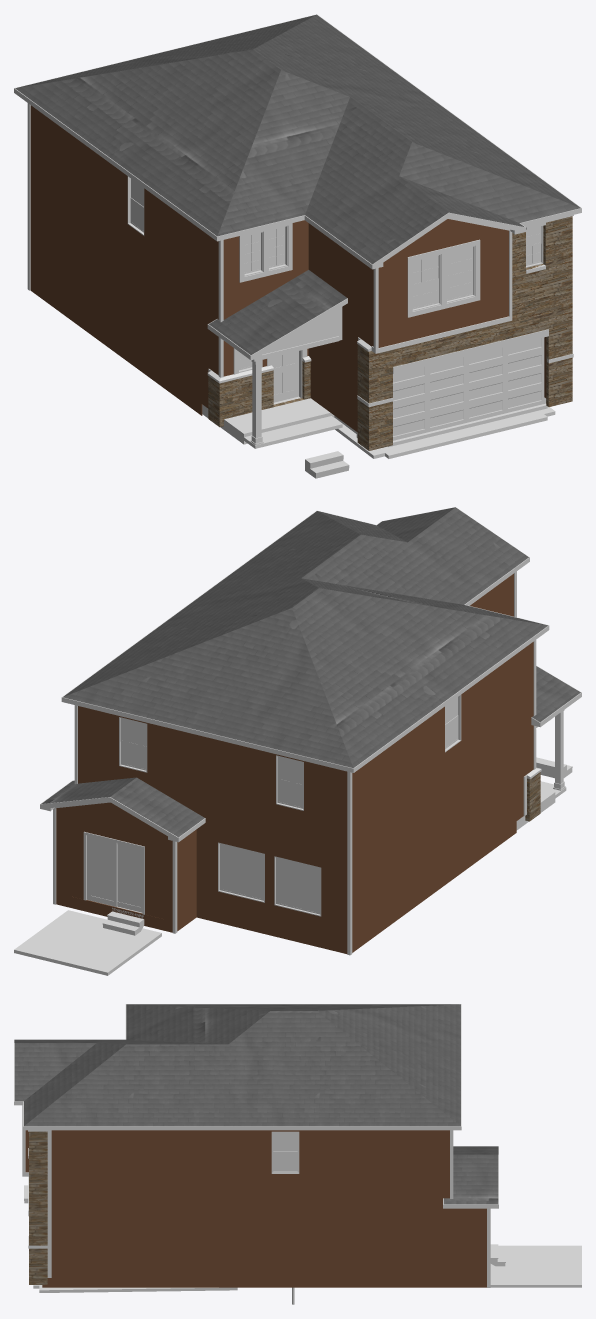
Rendered from 229-1994-dm-traditional-b.glb.
The picture shows the model from 3 angles, top to bottom: view 1: azimuth 30°, elevation 25°; view 2: azimuth 150°, elevation 25°; view 3: azimuth 270°, elevation 25°; orthographic projection. The views are drawn at different scales.
Parts seen in each view (by area): view 1: Basic Roof Wood Rafter 4" - Asphalt Shingle - Insulated_e511, Basic Wall BSB Exterior - Stud_5.5" - Sheathing_0.5" - _cba5, Basic Wall BSB Exterior - Brick_5.5" [4449222], Traditional - BSB Exterior - Overhead Garage Door - Clo_6579, Basic Wall BSB Exterior - Stud_3.5" - Sheathing_0.5" - _7f34, Basic Wall BSB Exterior - Stud_3.5" - Sheathing_0.5" - _88e3, Basic Wall BSB Exterior - Stud_3.5" - Sheathing_0.5" - _df46, Basic Roof Wood Rafter 4" - Asphalt Shingle - Insulated_83e9, Basic Wall BSB Exterior - Stud_3.5" - Sheathing_0.5" - _b0ea, Fascia Fascia-Flat 1x6 w/12" Soffit Bd [4252635], Basic Wall BSB Exterior - Stud_3.5" - Sheathing_0.5" - _6038, Basic Wall BSB Exterior - Stud_5.5" - Sheathing_0.5" - _b74c (+29 smaller); view 2: Basic Roof Wood Rafter 4" - Asphalt Shingle - Insulated_e511, Basic Wall BSB Exterior - Stud_3.5" - Sheathing_0.5" - _2e51, Basic Wall BSB Exterior - Stud_5.5" - Sheathing_0.5" - _cba5, Basic Wall BSB Exterior - Stud_3.5" - Sheathing_0.5" - _ca60, Basic Wall BSB Exterior - Stud_3.5" - Sheathing_0.5" - _7f34, Basic Wall BSB Exterior - Stud_3.5" - Sheathing_0.5" - _a688, Floor BSB Concrete Slab - 4" - Slope Option [4621636], Basic Wall BSB Exterior - Stud_3.5" - Sheathing_0.5" - _df46, BSB Exterior - SGD XO - 1-Lite 6068 [4608851], Basic Roof Wood Rafter 4" - Asphalt Shingle - Insulated_5cc2, Fascia Fascia-Flat 1x6 w/12" Soffit Bd [4252635], BSB Fixed 5050 FX w/ Sill [4088322] (+15 smaller); view 3: Basic Roof Wood Rafter 4" - Asphalt Shingle - Insulated_e511, Basic Wall BSB Exterior - Stud_3.5" - Sheathing_0.5" - _3bf5, Basic Wall BSB Exterior - Stud_3.5" - Sheathing_0.5" - _f4ce, Basic Wall BSB Exterior - Stud_3.5" - Sheathing_0.5" - _a8d1, Basic Wall BSB Exterior - Stud_3.5" - Sheathing_0.5" - _2a5f, Basic Wall BSB Exterior - Stud_3.5" - Sheathing_0.5" - _63a0, Floor BSB Concrete Slab - 4" - Slope Option [4621636], Basic Wall BSB Exterior - Brick_5.5" [4449221], Fascia Fascia-Flat 1x6 w/12" Soffit Bd [4252635], Basic Roof Wood Rafter 4" - Asphalt Shingle - Insulated_5cc2, Basic Wall BSB Exterior - Stud_3.5" - Sheathing_0.5" - _cfac, Basic Wall BSB Exterior - Stud_3.5" - Sheathing_0.5" - _a6c5 (+5 smaller).
Part boxes in pixels (x1,y1,x2,y2): Basic Roof Wood Rafter 4" - Asphalt Shingle - Insulated_e511: (15, 14, 580, 264); Basic Wall BSB Exterior - Stud_5.5" - Sheathing_0.5" - _cba5: (125, 174, 202, 415); Basic Wall BSB Exterior - Brick_5.5" [4449222]: (366, 217, 568, 450); Traditional - BSB Exterior - Overhead Garage Door - Clo_6579: (393, 337, 545, 440); Basic Wall BSB Exterior - Stud_3.5" - Sheathing_0.5" - _7f34: (30, 187, 124, 359); Basic Wall BSB Exterior - Stud_3.5" - Sheathing_0.5" - _88e3: (378, 228, 508, 347); Basic Wall BSB Exterior - Stud_3.5" - Sheathing_0.5" - _df46: (30, 106, 95, 232); Basic Roof Wood Rafter 4" - Asphalt Shingle - Insulated_83e9: (209, 270, 346, 354); Basic Wall BSB Exterior - Stud_3.5" - Sheathing_0.5" - _b0ea: (308, 223, 373, 346); Fascia Fascia-Flat 1x6 w/12" Soffit Bd [4252635]: (14, 14, 581, 268); Basic Wall BSB Exterior - Stud_3.5" - Sheathing_0.5" - _6038: (308, 329, 357, 432); Basic Wall BSB Exterior - Stud_5.5" - Sheathing_0.5" - _b74c: (227, 220, 308, 375); Basic Roof Wood Rafter 4" - Asphalt Shingle - Insulated_e511: (63, 507, 548, 768); Basic Wall BSB Exterior - Stud_3.5" - Sheathing_0.5" - _2e51: (78, 706, 347, 853); Basic Wall BSB Exterior - Stud_5.5" - Sheathing_0.5" - _cba5: (442, 654, 516, 886); Basic Wall BSB Exterior - Stud_3.5" - Sheathing_0.5" - _ca60: (196, 819, 347, 953); Basic Wall BSB Exterior - Stud_3.5" - Sheathing_0.5" - _7f34: (352, 786, 442, 952); Basic Wall BSB Exterior - Stud_3.5" - Sheathing_0.5" - _a688: (56, 802, 172, 932); Floor BSB Concrete Slab - 4" - Slope Option [4621636]: (14, 910, 161, 975); Basic Wall BSB Exterior - Stud_3.5" - Sheathing_0.5" - _df46: (352, 729, 413, 851); BSB Exterior - SGD XO - 1-Lite 6068 [4608851]: (83, 831, 144, 914); Basic Roof Wood Rafter 4" - Asphalt Shingle - Insulated_5cc2: (41, 777, 204, 837); Fascia Fascia-Flat 1x6 w/12" Soffit Bd [4252635]: (61, 507, 549, 772); BSB Fixed 5050 FX w/ Sill [4088322]: (274, 856, 321, 916); Basic Roof Wood Rafter 4" - Asphalt Shingle - Insulated_e511: (14, 1004, 460, 1126); Basic Wall BSB Exterior - Stud_3.5" - Sheathing_0.5" - _3bf5: (281, 1201, 486, 1287); Basic Wall BSB Exterior - Stud_3.5" - Sheathing_0.5" - _f4ce: (70, 1201, 267, 1287); Basic Wall BSB Exterior - Stud_3.5" - Sheathing_0.5" - _a8d1: (70, 1130, 233, 1201); Basic Wall BSB Exterior - Stud_3.5" - Sheathing_0.5" - _2a5f: (336, 1130, 449, 1201); Basic Wall BSB Exterior - Stud_3.5" - Sheathing_0.5" - _63a0: (233, 1130, 336, 1201); Floor BSB Concrete Slab - 4" - Slope Option [4621636]: (490, 1245, 581, 1287); Basic Wall BSB Exterior - Brick_5.5" [4449221]: (29, 1131, 47, 1284); Fascia Fascia-Flat 1x6 w/12" Soffit Bd [4252635]: (14, 1004, 461, 1130); Basic Roof Wood Rafter 4" - Asphalt Shingle - Insulated_5cc2: (443, 1146, 498, 1204); Basic Wall BSB Exterior - Stud_3.5" - Sheathing_0.5" - _cfac: (42, 1201, 70, 1287); Basic Wall BSB Exterior - Stud_3.5" - Sheathing_0.5" - _a6c5: (51, 1130, 70, 1201).
Size of the model in its own units: 9.49 by 10.27 by 18.61.
Materials: 3 (2 with a texture image).
